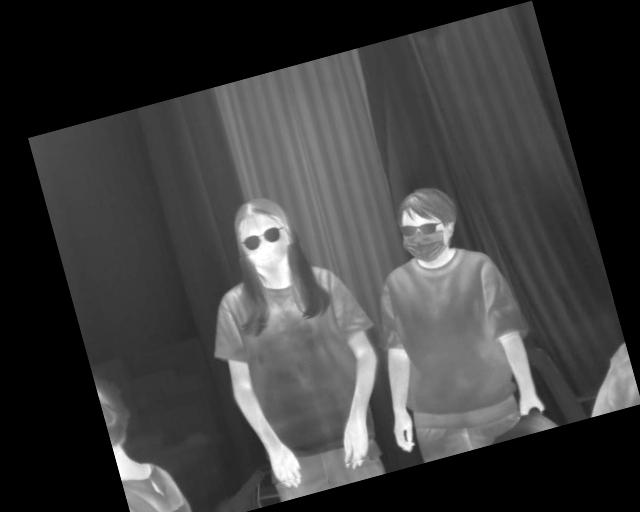face: (390, 181, 466, 268), (226, 191, 299, 277)
